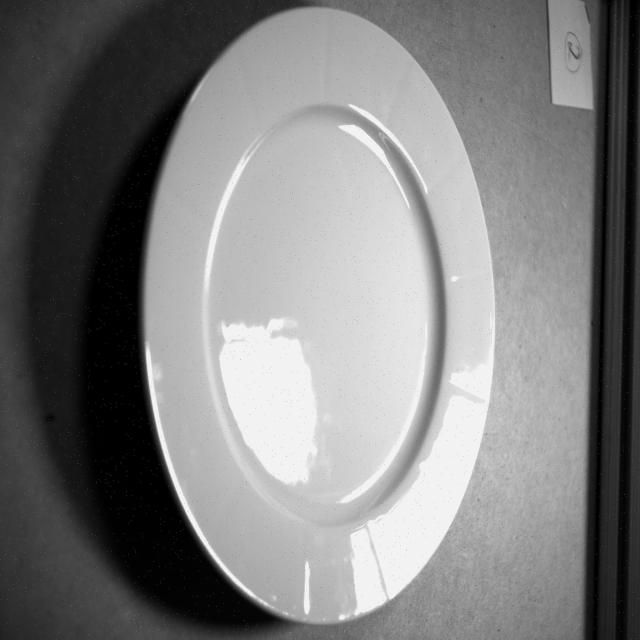plate: (144, 8, 494, 624)
